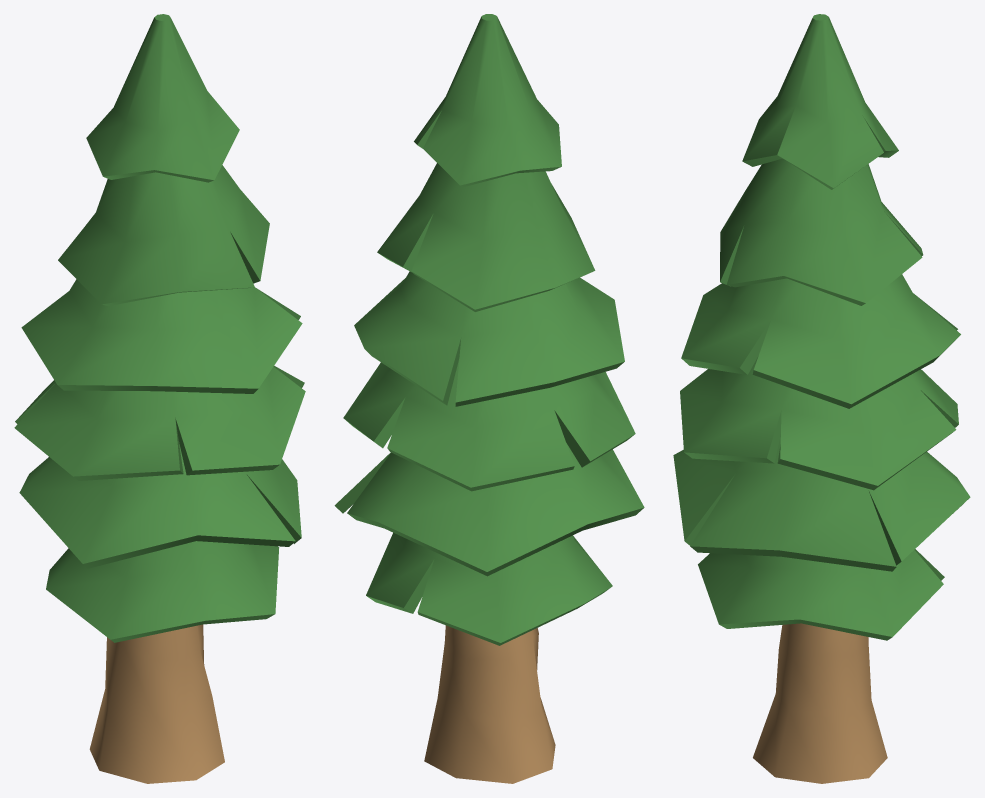
File: fir.glb
The picture shows the model from 3 angles, left to right: view 1: azimuth 30°, elevation 25°; view 2: azimuth 150°, elevation 25°; view 3: azimuth 270°, elevation 25°; orthographic projection.
Parts seen in each view (by area): view 1: Tree; view 2: Tree; view 3: Tree.
Part boxes in pixels (<box>): Tree: <box>14,14,305,783</box>; Tree: <box>334,14,644,783</box>; Tree: <box>673,14,970,783</box>.
Bounding box in the file's own units: 2.93 × 8.36 × 3.04.
